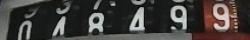digits: (167, 4, 189, 35), (208, 2, 230, 33), (127, 7, 148, 36), (84, 12, 106, 38), (49, 17, 69, 39), (16, 20, 32, 39)
